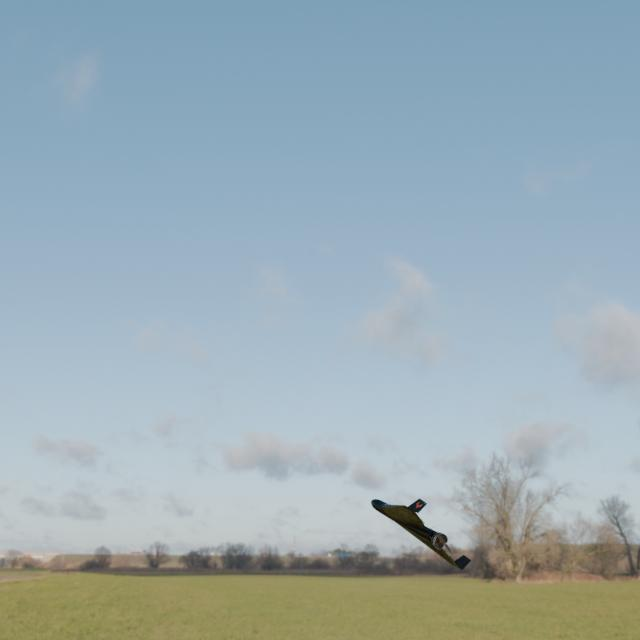Airaplan: (371, 498, 472, 570)
